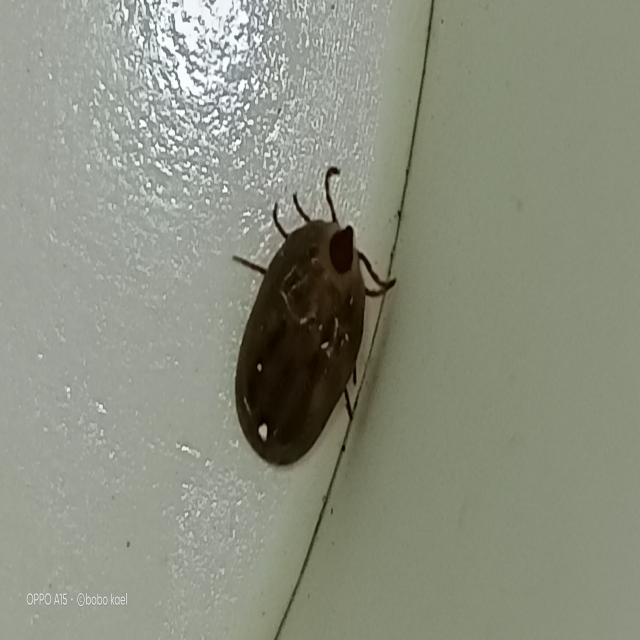Rhipicephalus Sanguineus-F-Fed: (223, 144, 392, 470)
